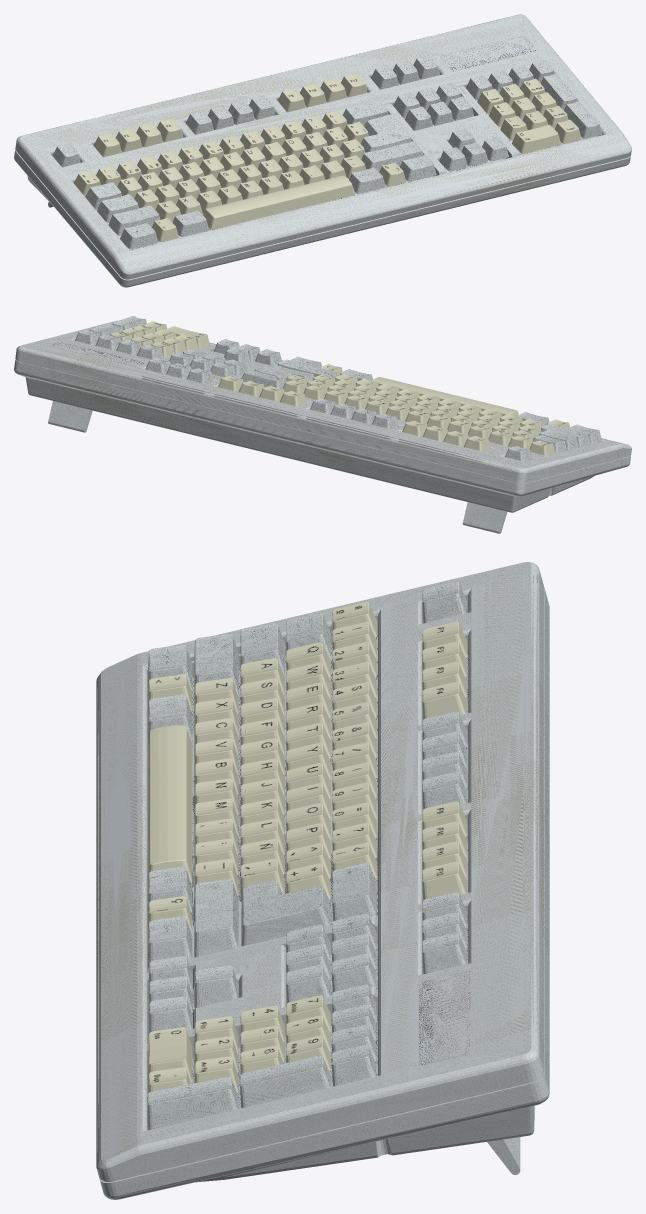
3 renders of one model, top to bottom at view 1: azimuth 30°, elevation 25°; view 2: azimuth 150°, elevation 25°; view 3: azimuth 270°, elevation 25°, orthographic. The views are drawn at different scales.
Visible parts, largest first — view 1: instance_0.140, instance_0.124, instance_0.042, instance_0.141, instance_0.148, instance_0.081, instance_0.111, instance_0.065, instance_0.129, instance_0.094, instance_0.113, instance_0.092 (+39 smaller); view 2: instance_0.124, instance_0.140, instance_0.129, instance_0.042, instance_0.135, instance_0.130, instance_0.148, instance_0.098, instance_0.081, instance_0.111, instance_0.141, instance_0.094 (+10 smaller); view 3: instance_0.140, instance_0.124, instance_0.141, instance_0.042, instance_0.148, instance_0.081, instance_0.113, instance_0.076, instance_0.111, instance_0.109, instance_0.098, instance_0.094 (+94 smaller).
Part boxes in pixels (<box>): instance_0.140: <box>15,14,631,279</box>; instance_0.124: <box>14,149,630,287</box>; instance_0.042: <box>203,175,355,229</box>; instance_0.141: <box>70,66,606,250</box>; instance_0.148: <box>440,36,536,71</box>; instance_0.081: <box>361,114,411,152</box>; instance_0.111: <box>361,141,423,171</box>; instance_0.065: <box>512,124,560,153</box>; instance_0.129: <box>123,153,619,279</box>; instance_0.094: <box>108,205,160,235</box>; instance_0.113: <box>564,101,602,138</box>; instance_0.092: <box>120,223,158,249</box>; instance_0.124: <box>14,359,630,512</box>; instance_0.140: <box>15,320,631,482</box>; instance_0.129: <box>16,352,629,483</box>; instance_0.042: <box>372,377,518,416</box>; instance_0.135: <box>48,401,92,432</box>; instance_0.130: <box>462,502,507,533</box>; instance_0.148: <box>48,342,144,365</box>; instance_0.098: <box>241,370,286,388</box>; instance_0.081: <box>254,364,314,381</box>; instance_0.111: <box>278,359,337,378</box>; instance_0.141: <box>70,338,605,441</box>; instance_0.094: <box>541,424,590,447</box>; instance_0.140: <box>96,562,544,1180</box>; instance_0.124: <box>99,588,549,1199</box>; instance_0.141: <box>142,609,380,1131</box>; instance_0.042: <box>148,725,192,887</box>; instance_0.148: <box>419,971,470,1065</box>; instance_0.081: <box>241,880,330,946</box>; instance_0.113: <box>147,1077,238,1129</box>; instance_0.076: <box>191,634,377,957</box>; instance_0.111: <box>194,879,238,957</box>; instance_0.109: <box>240,1055,331,1108</box>; instance_0.098: <box>332,863,377,920</box>; instance_0.094: <box>194,633,238,697</box>.
Bounding box in the file's own units: 2.5 × 0.3479 × 0.9625.
8 materials, 7 textured.
